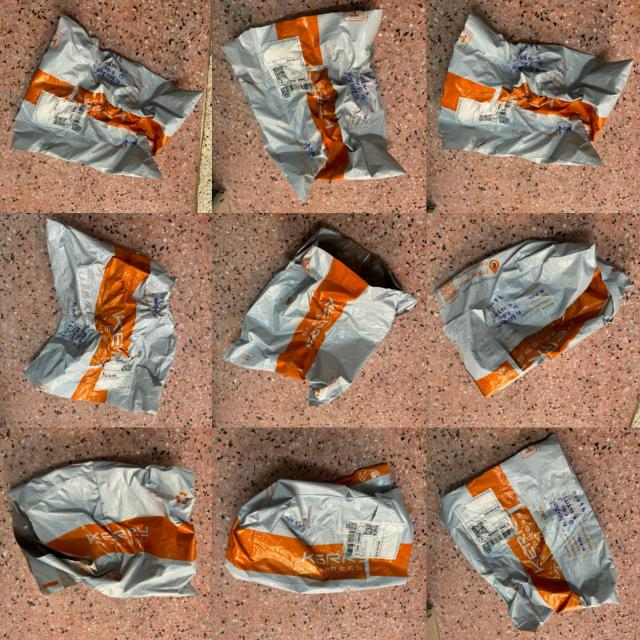plastik: (222, 10, 405, 202), (440, 436, 618, 631), (225, 227, 417, 406), (431, 240, 632, 396), (11, 15, 202, 179), (25, 220, 176, 413), (439, 15, 632, 166), (8, 461, 197, 598), (225, 464, 414, 593)
